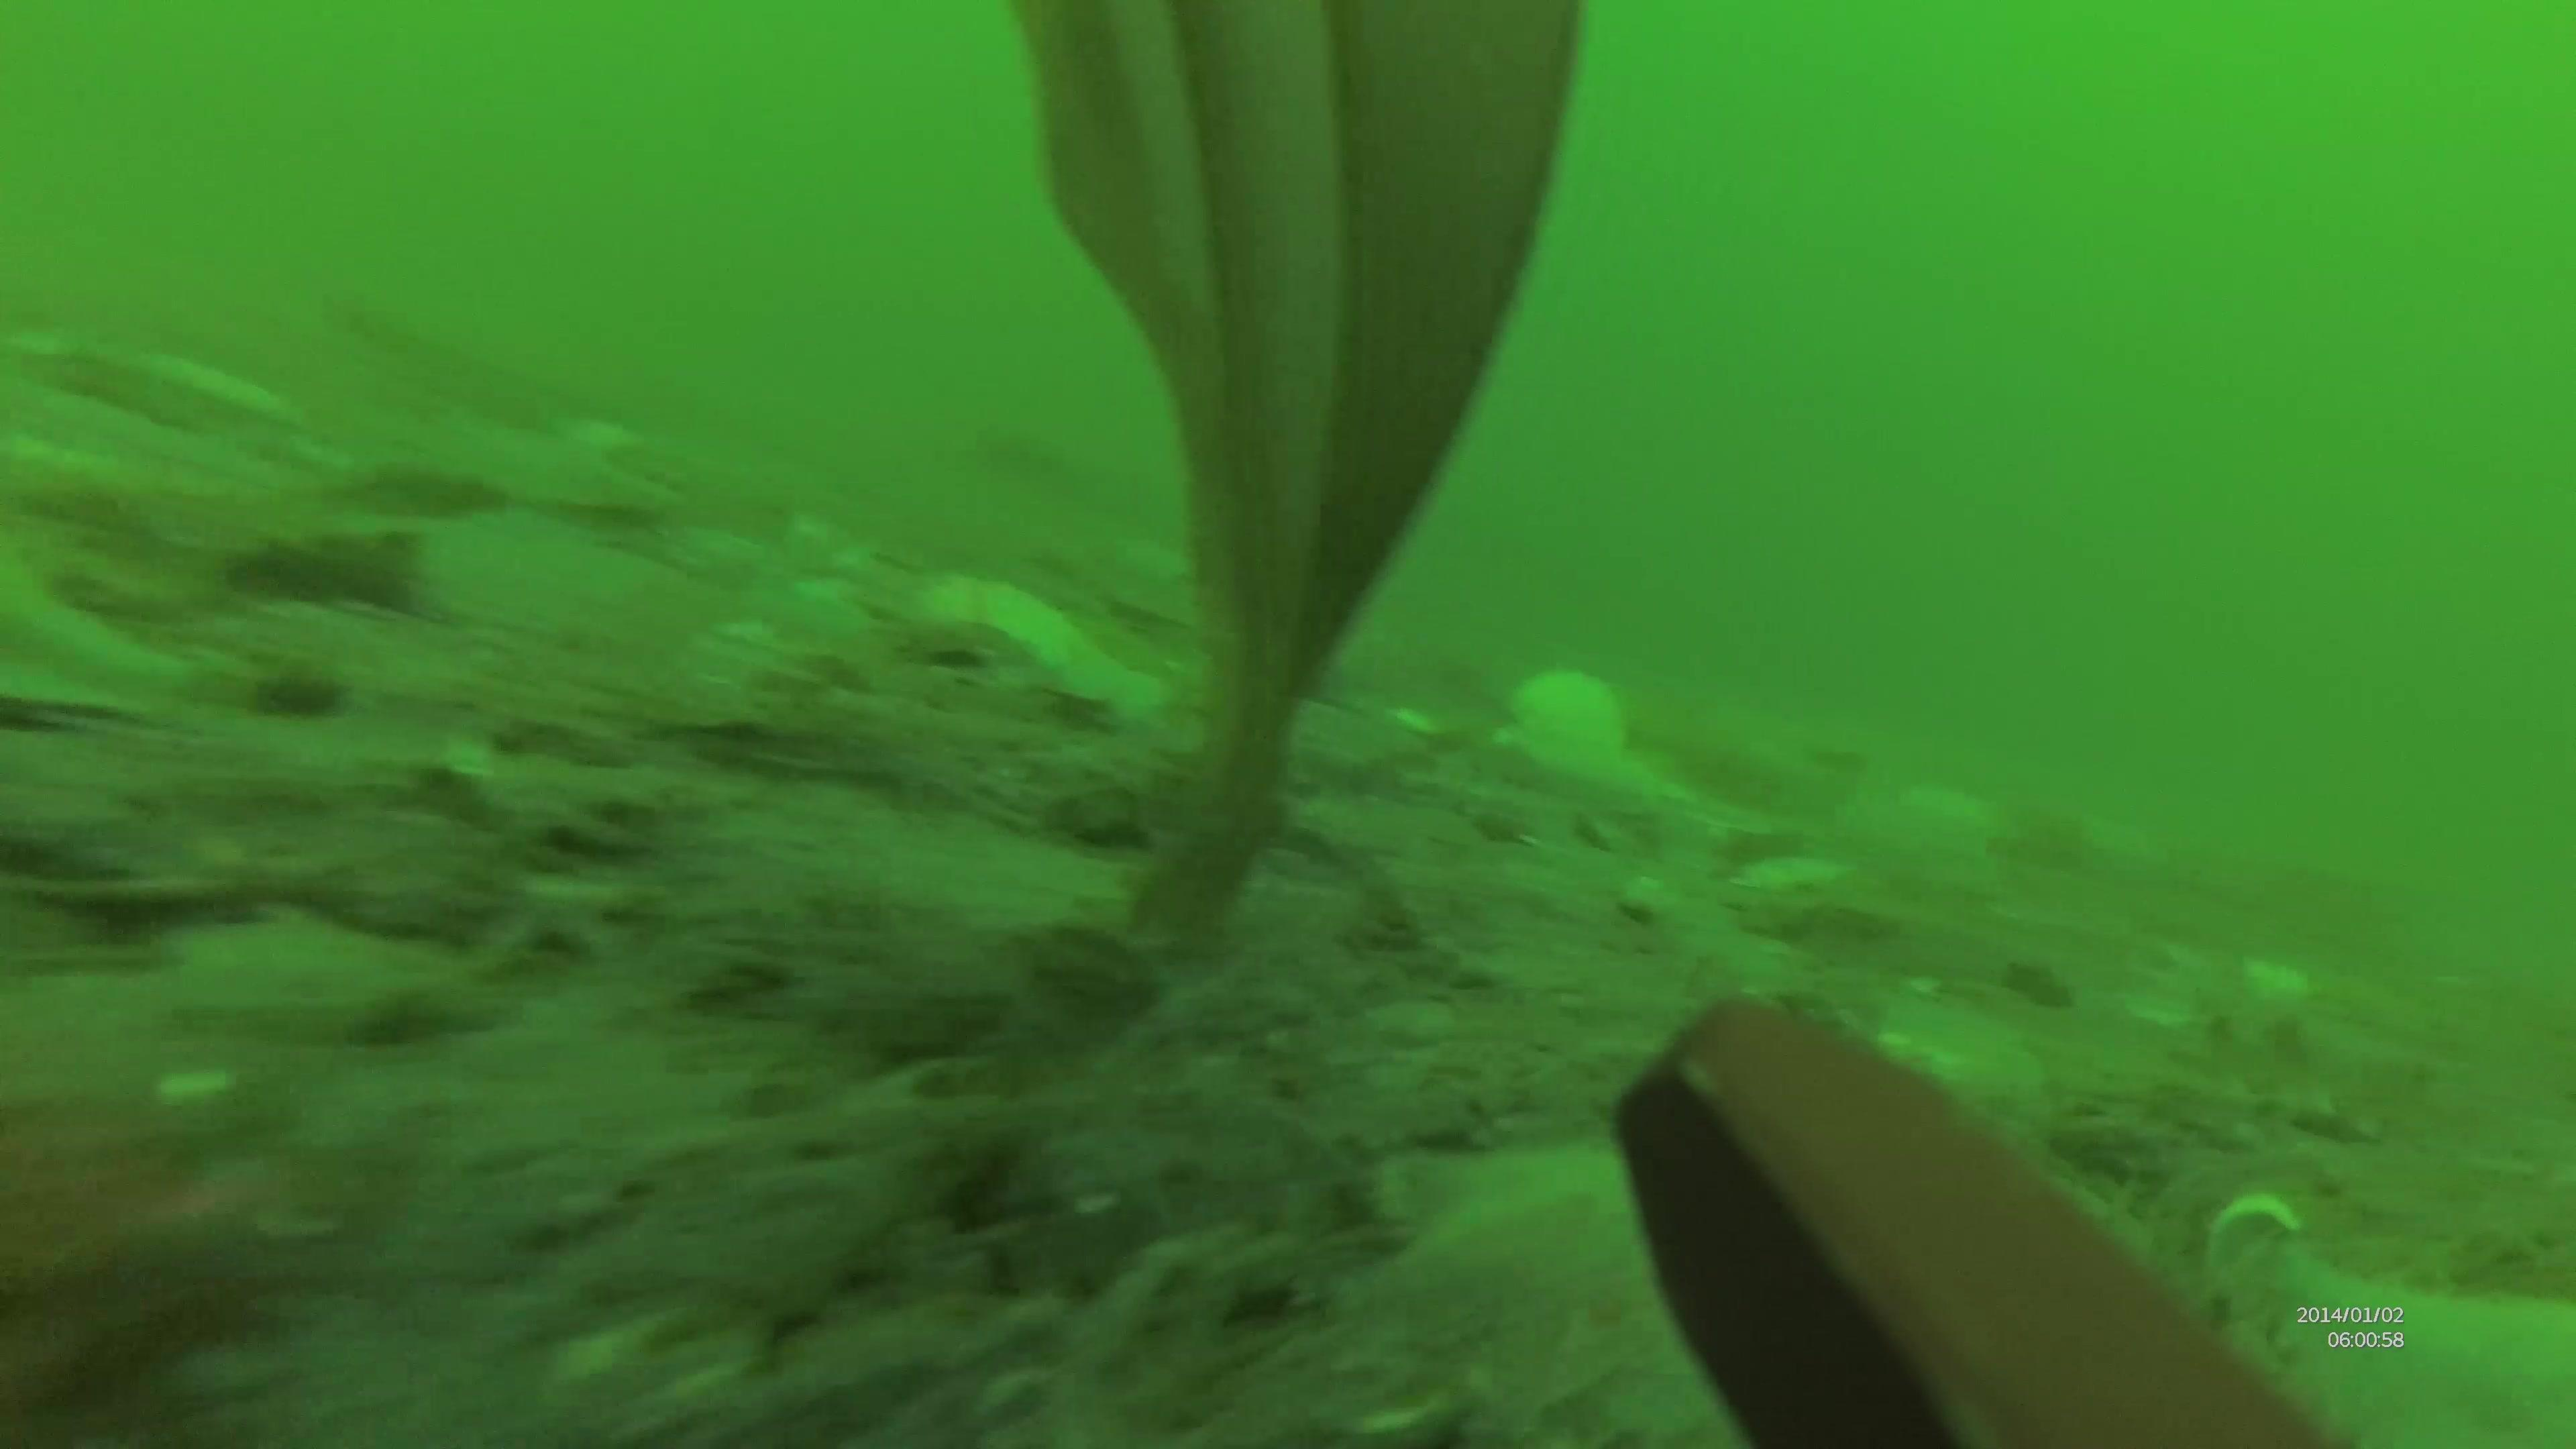echinus: (870, 564, 1162, 718)
starfish: (1364, 1136, 1882, 1449), (2212, 1205, 2576, 1445)
